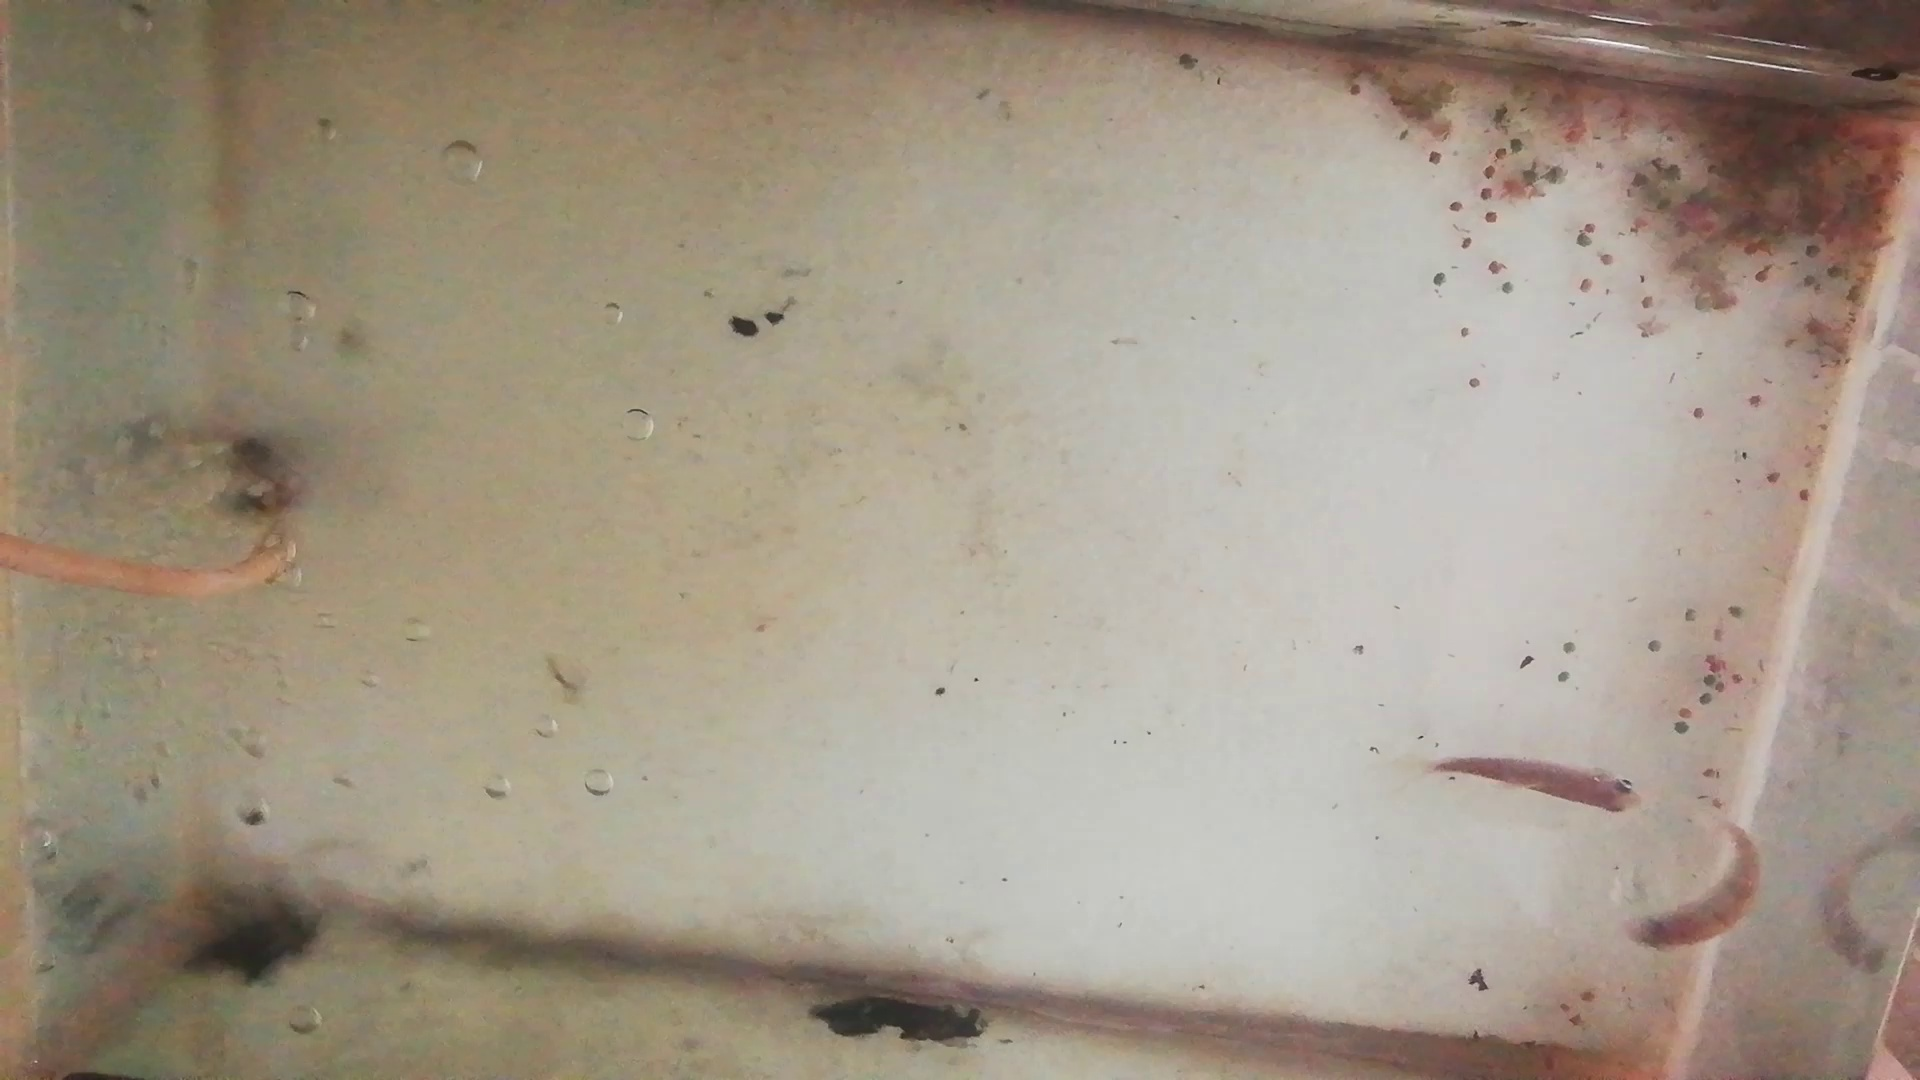fish: (1629, 822, 1764, 951), (1433, 754, 1643, 820)
